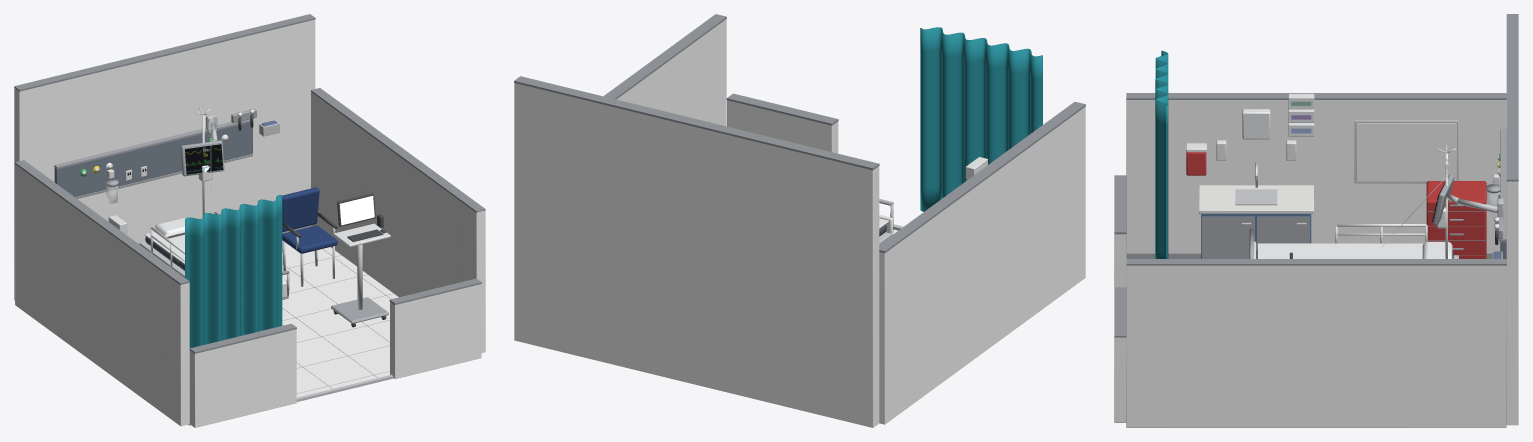
The model's file is room_POD_FAR.glb.
3 views of the same model, side by side, from view 1: azimuth 30°, elevation 25°; view 2: azimuth 150°, elevation 25°; view 3: azimuth 270°, elevation 25° (orthographic). The views are drawn at different scales.
Parts seen in each view (by area): view 1: wall_back, wall_left, wall_right, curtain, floor_room, wall_front, wall_front.001, headwall, cap_back, cap_left, cap_right, chair_back (+11 smaller); view 2: wall_back, wall_left, curtain, wall_right, cap_back, wall_front.001, cap_left, cap_right, cap_front.001; view 3: wall_right, wall_left, whiteboard, cart, wall_back, curtain, counter, cap_right, cap_left, cap_back, cab_door_gap, sheet_foot (+15 smaller).
Boxes of the visible parts, bbox=[...] form: wall_back: bbox=[14, 19, 315, 300]; wall_left: bbox=[15, 164, 189, 426]; wall_right: bbox=[311, 92, 485, 352]; curtain: bbox=[185, 195, 282, 348]; floor_room: bbox=[188, 241, 398, 425]; wall_front: bbox=[189, 329, 296, 427]; wall_front.001: bbox=[390, 284, 481, 378]; headwall: bbox=[54, 122, 252, 196]; cap_back: bbox=[14, 14, 315, 91]; cap_left: bbox=[15, 160, 189, 284]; cap_right: bbox=[311, 88, 485, 212]; chair_back: bbox=[282, 187, 319, 232]; wall_back: bbox=[514, 83, 879, 427]; wall_left: bbox=[879, 107, 1085, 424]; curtain: bbox=[920, 27, 1042, 211]; wall_right: bbox=[616, 19, 726, 126]; cap_back: bbox=[514, 76, 879, 170]; wall_front.001: bbox=[727, 100, 838, 153]; cap_left: bbox=[879, 101, 1085, 253]; cap_right: bbox=[604, 14, 726, 99]; cap_front.001: bbox=[726, 93, 838, 125]; wall_right: bbox=[1126, 265, 1506, 427]; wall_left: bbox=[1126, 100, 1506, 253]; whiteboard: bbox=[1356, 123, 1456, 181]; cart: bbox=[1426, 181, 1486, 258]; wall_back: bbox=[1506, 181, 1518, 425]; curtain: bbox=[1155, 50, 1168, 258]; counter: bbox=[1199, 185, 1313, 213]; cap_right: bbox=[1126, 259, 1506, 265]; cap_left: bbox=[1126, 93, 1506, 99]; cap_back: bbox=[1506, 14, 1518, 181]; cab_door_gap: bbox=[1202, 216, 1254, 258]; sheet_foot: bbox=[1257, 243, 1374, 258].
Size of the model in its own units: 4.04 by 2.73 by 4.04.
Materials: 32 (1 with a texture image).
